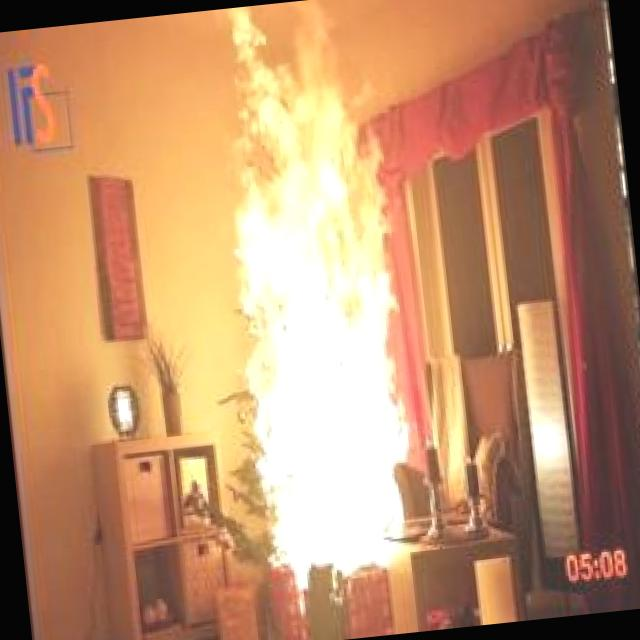fire: (167, 0, 447, 601)
